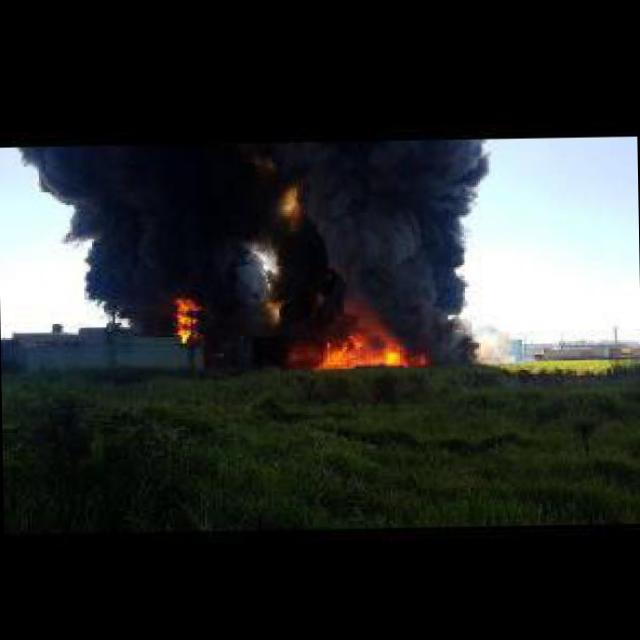fire: (309, 321, 429, 371), (168, 290, 204, 346)
smoke: (265, 136, 471, 338), (75, 140, 272, 297), (8, 146, 74, 234), (470, 136, 502, 197)
